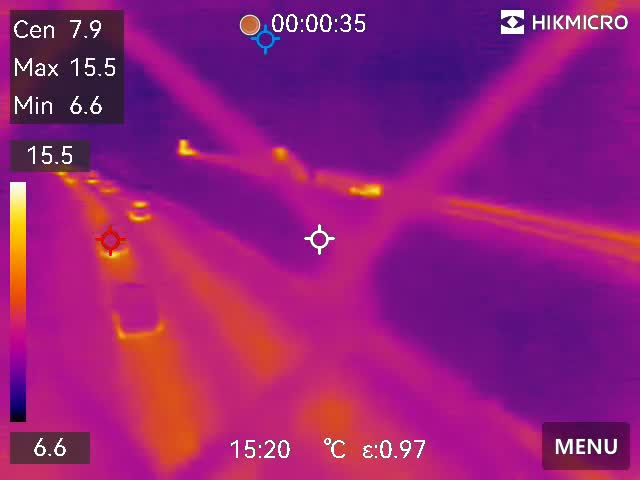vehicle: (108, 284, 166, 340)
